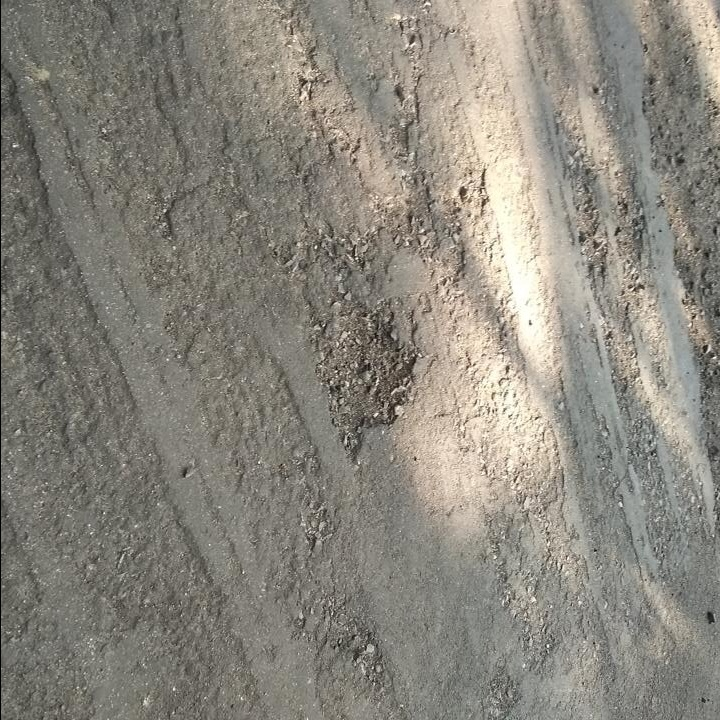pothole: (310, 291, 419, 460), (571, 181, 611, 278), (613, 178, 648, 271)
